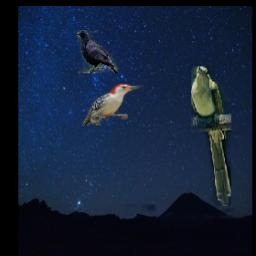Crow: (77, 31, 119, 74)
Cuckoo: (191, 67, 231, 207)
Woodpecker: (81, 83, 143, 125)
